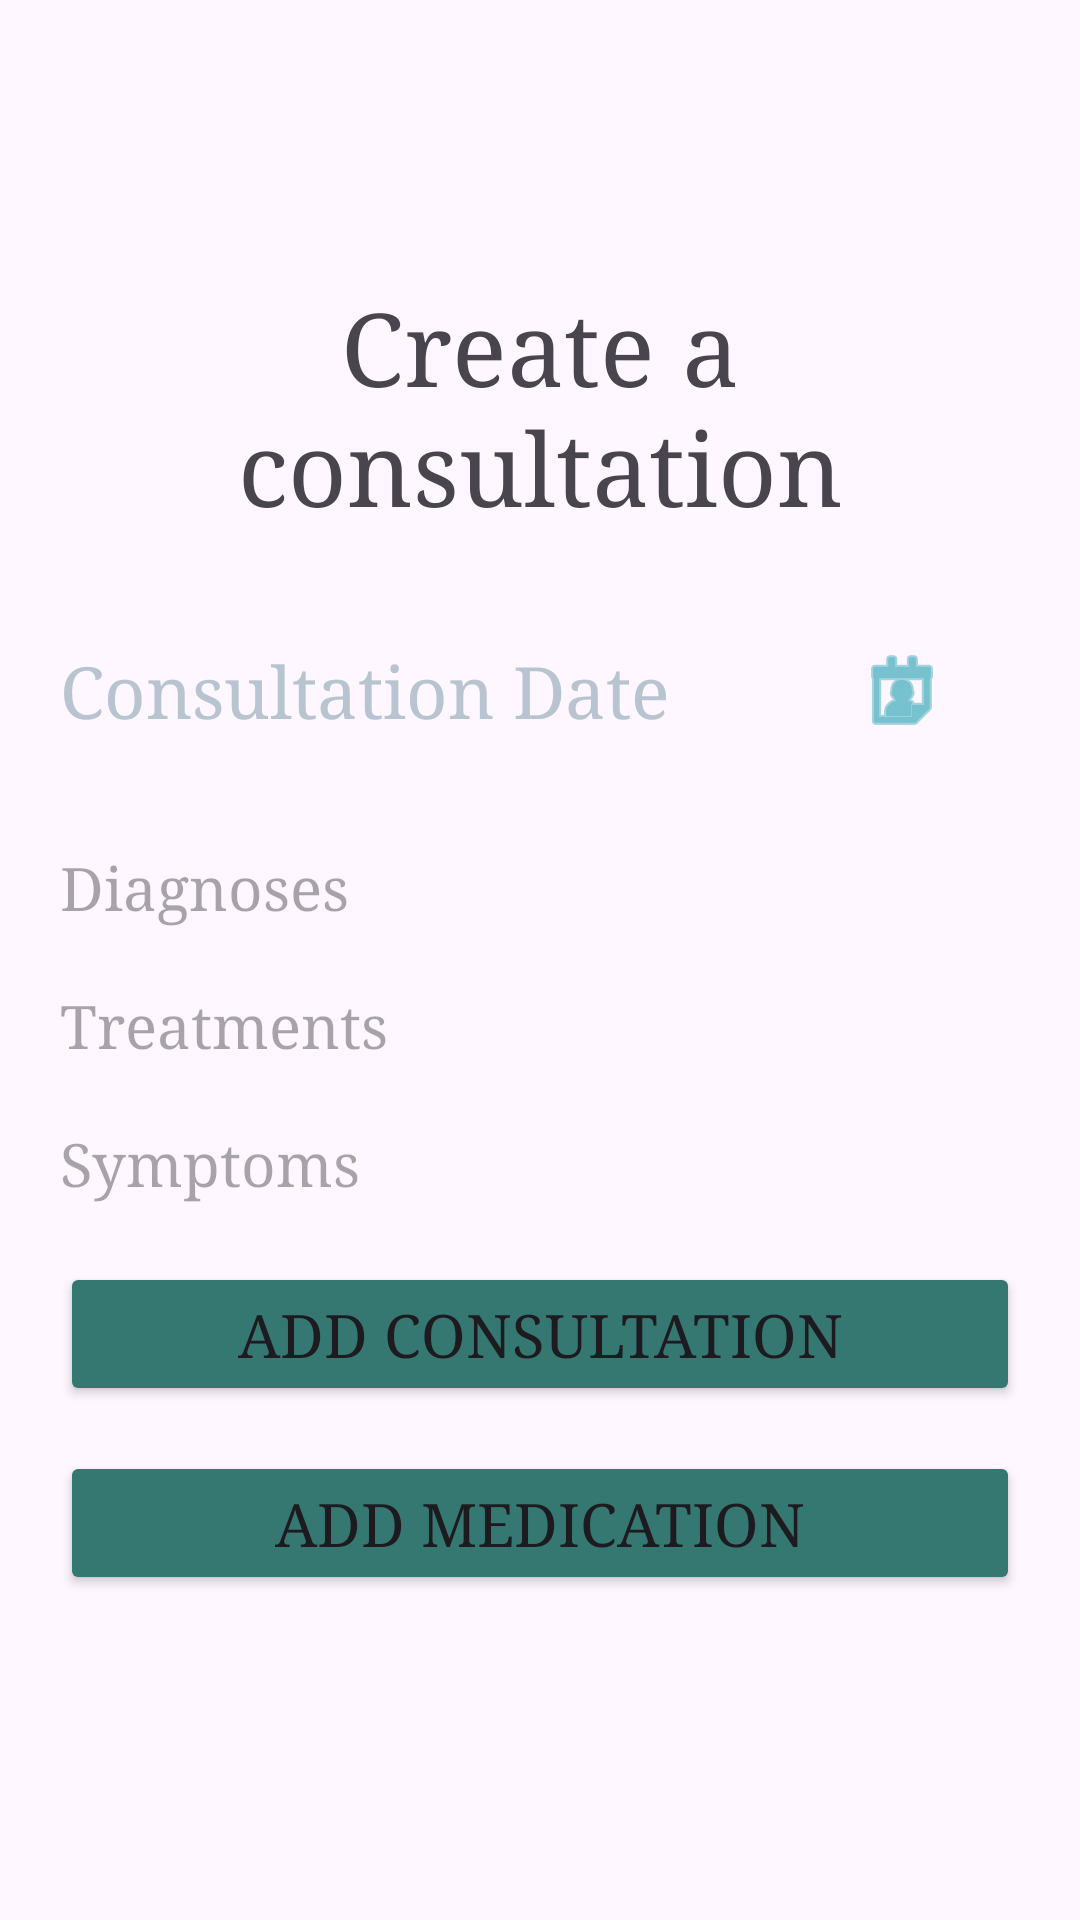

Named icons in this screenshot (1080x1920) and their bounding boxes, (x1, y1, x2, y2):
Pick a date: (871, 655, 933, 725)
